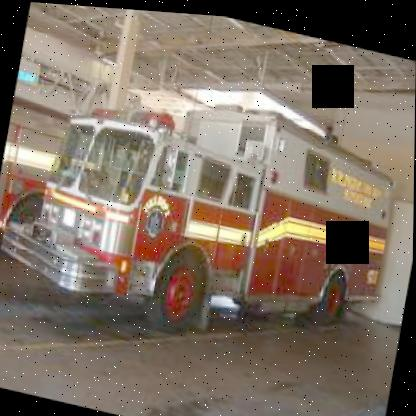emergency: (0, 74, 414, 378)
